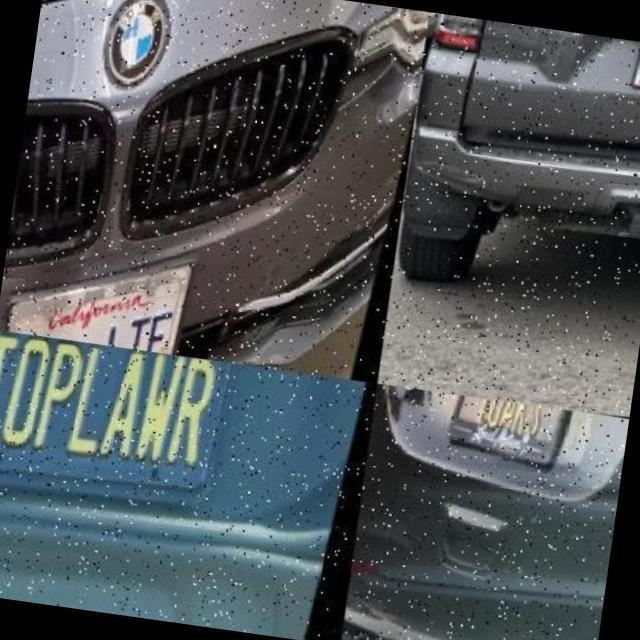License Plate: (0, 330, 254, 530), (18, 265, 200, 356), (454, 396, 578, 482)
